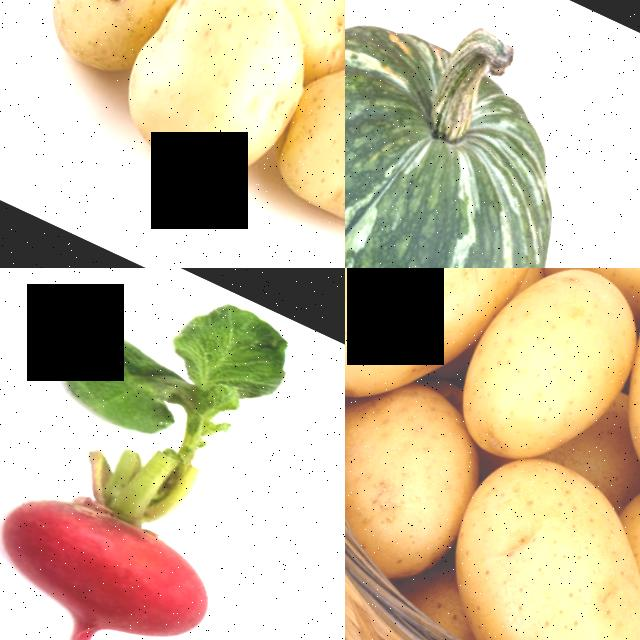potato: (85, 0, 333, 208), (395, 438, 640, 640), (423, 268, 640, 488), (345, 268, 568, 438), (1, 0, 231, 98), (245, 32, 345, 252), (570, 269, 640, 524), (556, 474, 640, 640), (189, 0, 345, 46)
pumpkin: (345, 0, 640, 268)
radishes: (0, 383, 277, 640)
